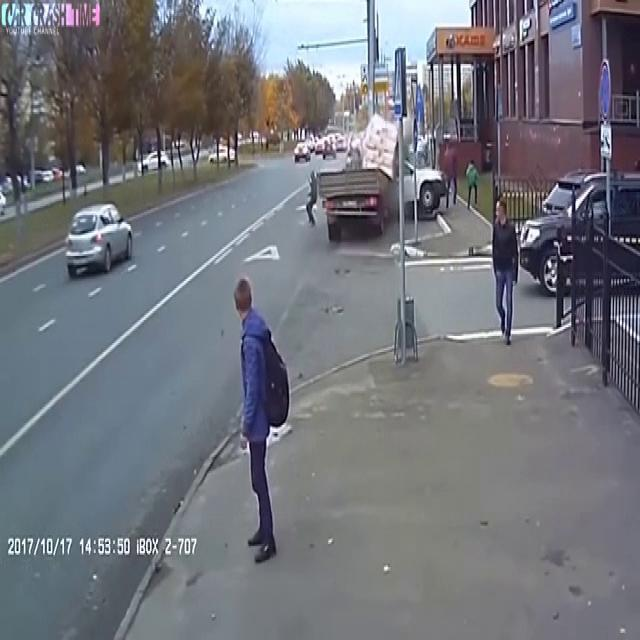accident: (306, 94, 436, 231)
